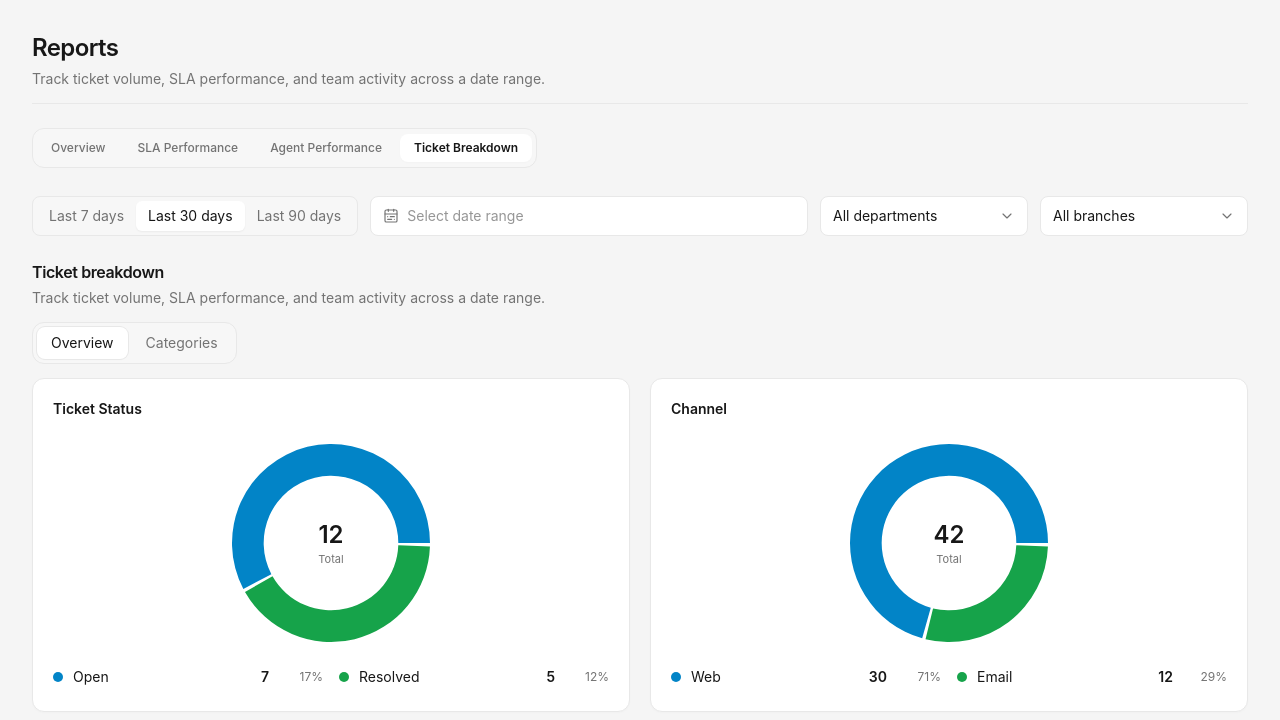
Reports Redesign Information Architecture › only shows breakdown search and pagination controls when useful
Expected: the field with placeholder "Search categories…" is not shown
Click the tab "Categories" at (182,343), box x1=132 y1=327 x2=232 y2=359
(page scrolled)
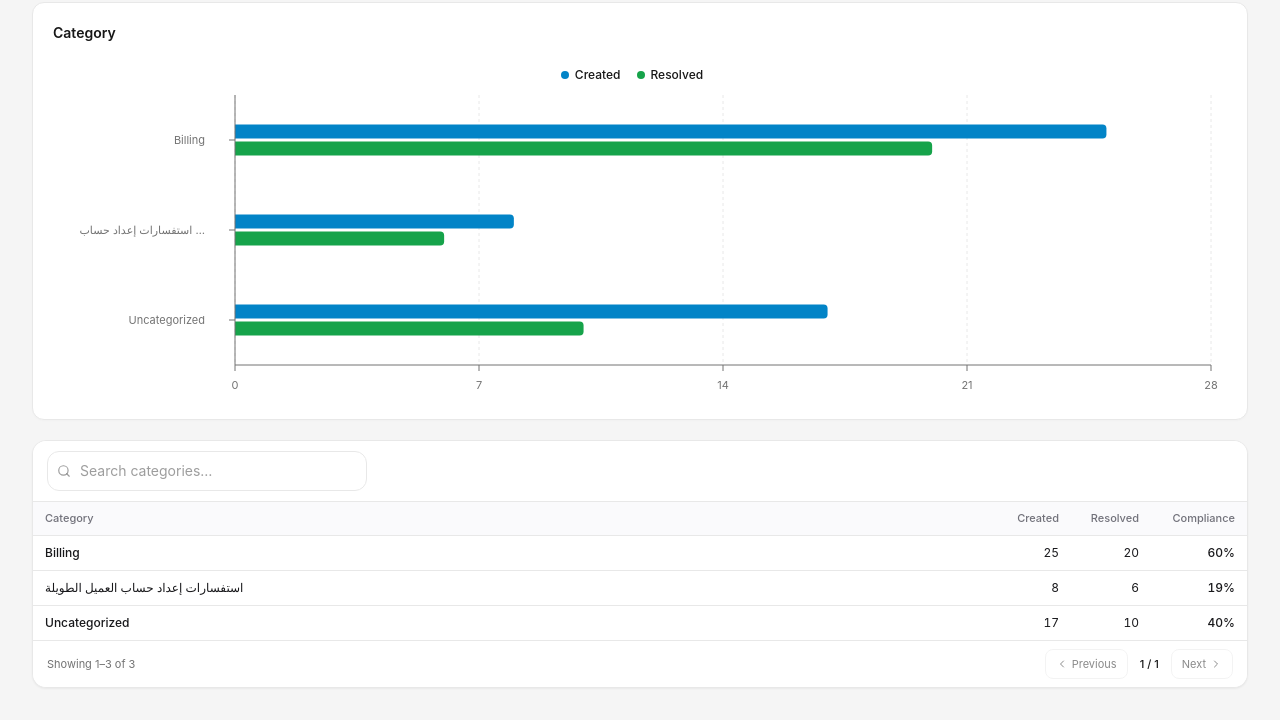
Expected: the search field with placeholder "Search categories…" is shown, x1=47 y1=451 x2=367 y2=491
